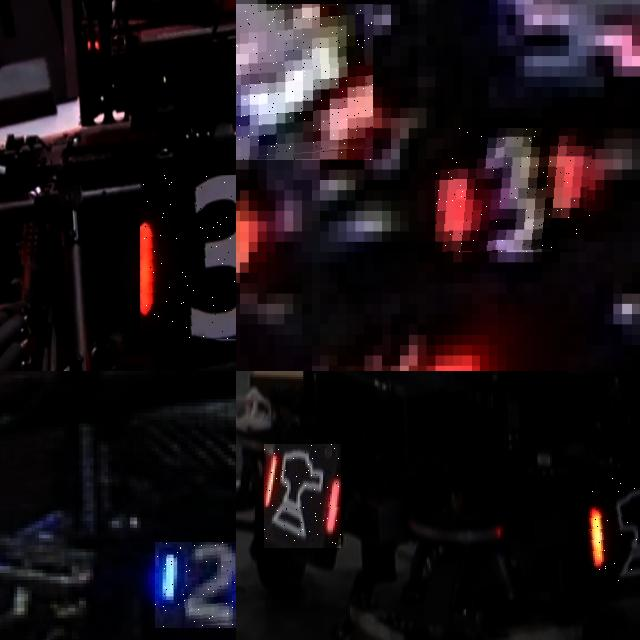B2: (155, 541, 236, 628)
R3: (236, 4, 373, 159), (436, 128, 596, 252), (140, 175, 236, 340)
Rs: (264, 444, 341, 548), (587, 478, 640, 581)
